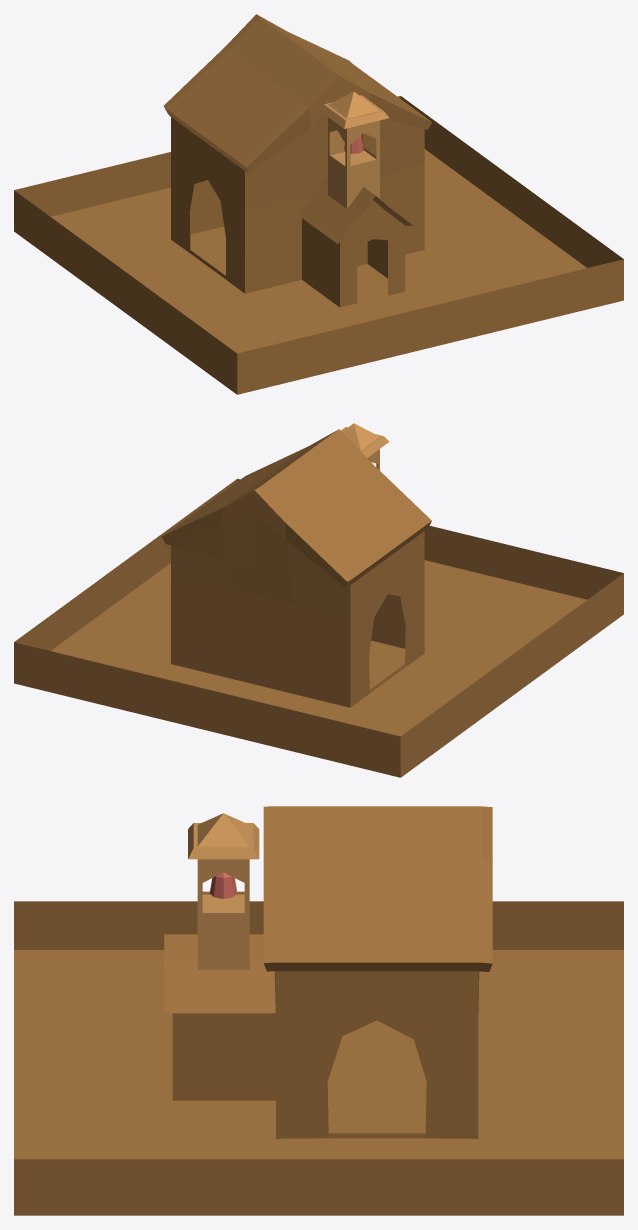
File: iglesia.fbx
3 views of the same model, one above another, from view 1: azimuth 30°, elevation 25°; view 2: azimuth 150°, elevation 25°; view 3: azimuth 270°, elevation 25° (orthographic). The views are drawn at different scales.
Visible parts, largest first — view 1: piso, centro iglesia, puerta, torre; view 2: piso, centro iglesia, torre; view 3: piso, centro iglesia, puerta, torre, Cylinder.
Part boxes in pixels (x1,y1,x2,y2): piso: (14,96,623,394); centro iglesia: (163,14,431,293); puerta: (297,176,413,307); torre: (318,91,388,208); piso: (14,478,623,777); centro iglesia: (161,429,431,707); torre: (341,423,389,470); piso: (14,901,623,1215); centro iglesia: (263,806,492,1138); puerta: (164,934,275,1100); torre: (188,813,259,969); Cylinder: (209,872,237,898).
Bounding box in the file's own units: 1181 × 599 × 1181.
